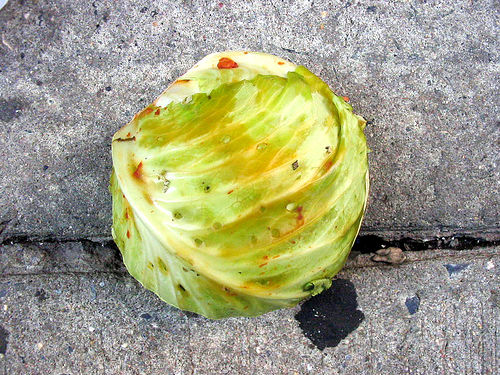cabbage: (109, 49, 371, 319)
